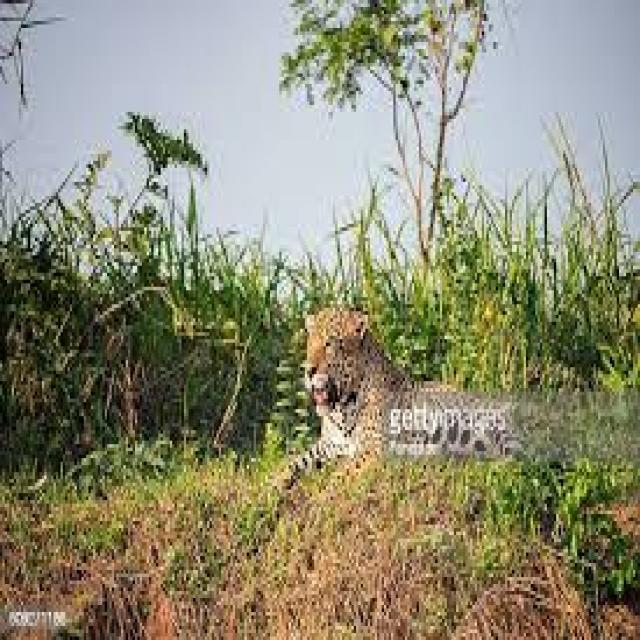Jaguar: (291, 308, 551, 486)
